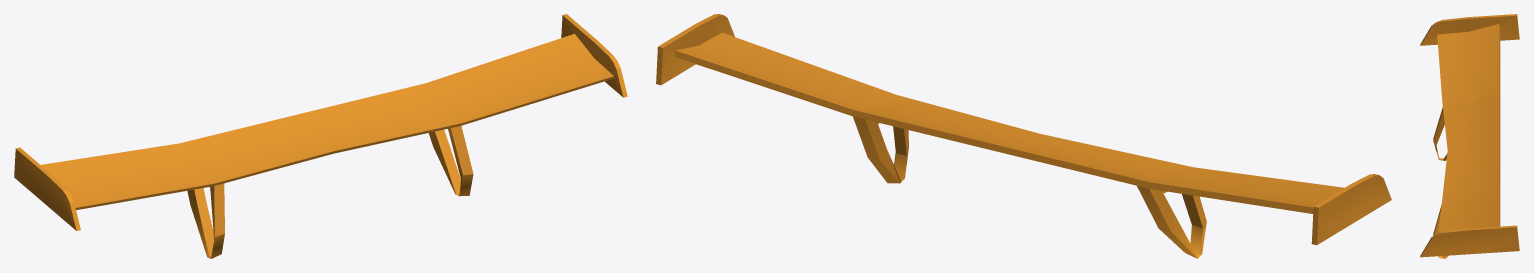
File: protoHatch_spoiler_1.glb
3 views of the same model, side by side, from view 1: azimuth 30°, elevation 25°; view 2: azimuth 150°, elevation 25°; view 3: azimuth 270°, elevation 25° (orthographic). The views are drawn at different scales.
Parts seen in each view (by area): view 1: spoiler_1; view 2: spoiler_1; view 3: spoiler_1.
Part boxes in pixels (x1,y1,x2,y2): spoiler_1: (14, 14, 627, 258); spoiler_1: (656, 14, 1391, 258); spoiler_1: (1420, 14, 1519, 258).
Bounding box in the file's own units: 1.52 × 0.2937 × 0.2987.
